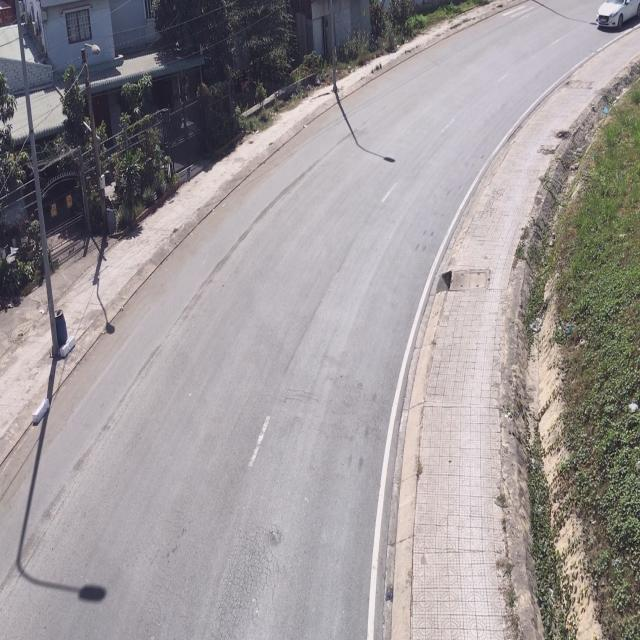car: (595, 0, 638, 33)
